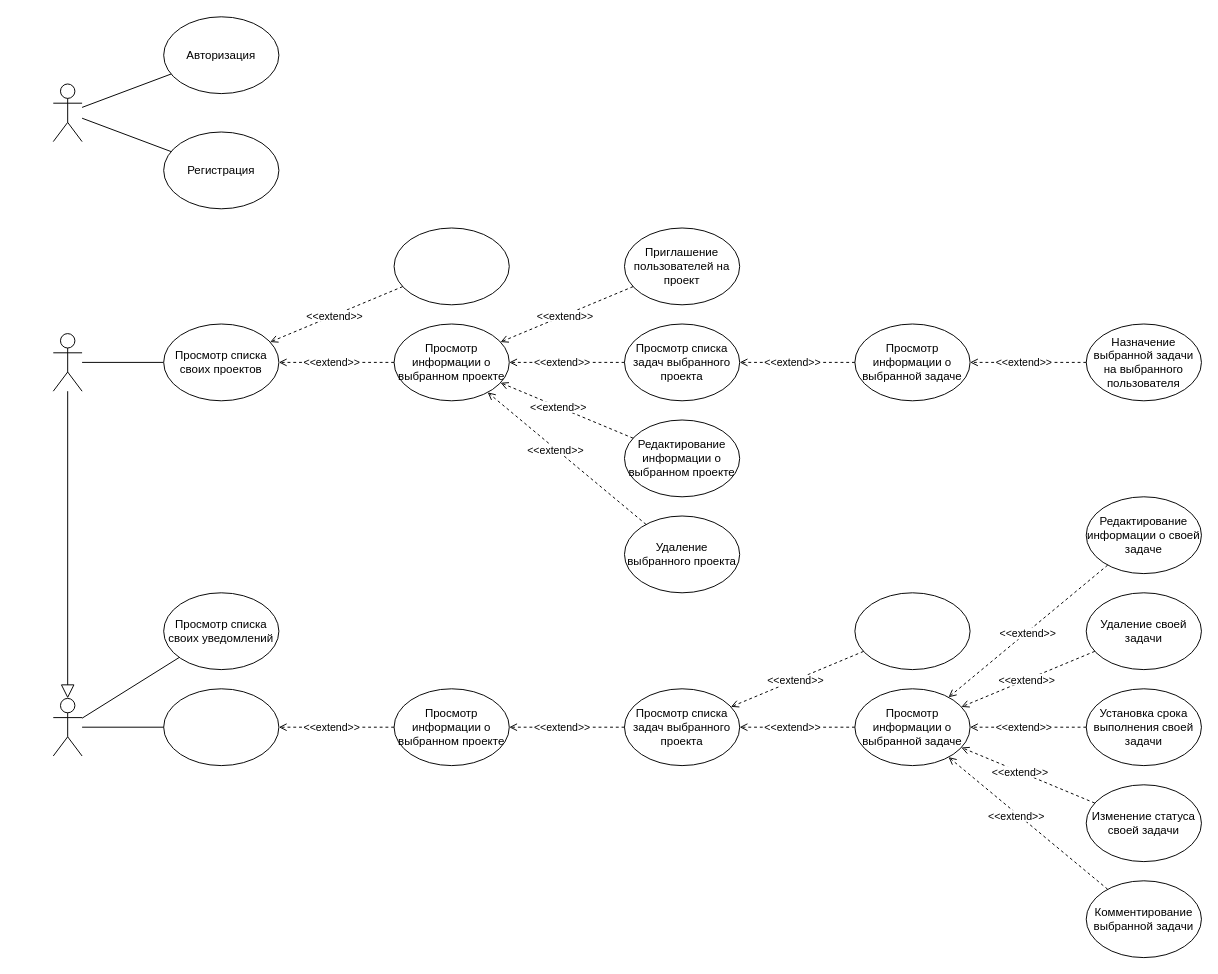
This 1218x974 diagram has some shape labels left out. Here are the shapes that lost their labels. From the top down, the centre of each, then its label:
At point (67, 112): "Неавторизованный пользователь".
At point (451, 266): "Создание проекта".
At point (67, 362): "Администратор".
At point (912, 631): "Создание задачи".
At point (67, 726): "Пользователь".
At point (221, 727): "Просмотр списка доступных проектов".
